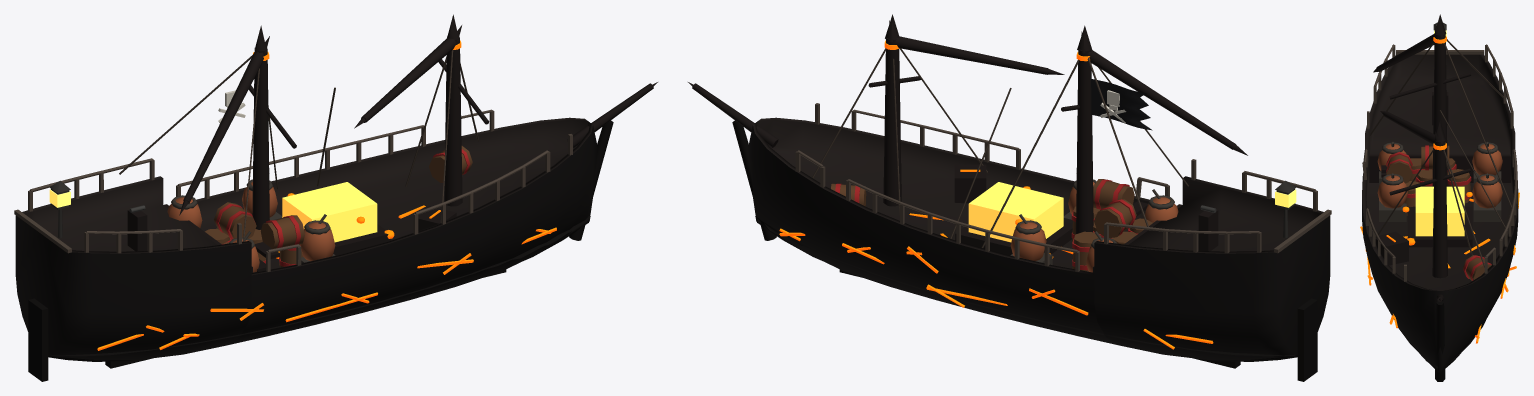
File: fire-ship-4-firepots.glb
The picture shows the model from 3 angles, left to right: view 1: azimuth 30°, elevation 25°; view 2: azimuth 150°, elevation 25°; view 3: azimuth 270°, elevation 25°; orthographic projection. The views are drawn at different scales.
Parts seen in each view (by area): view 1: Mesh_Hull, Mesh_DeckAndBulwarks, Mesh_FireCore, Mesh_MainMastStump, Mesh_ForeMastStump, Mesh_MainMastFallen, Mesh_Rudder, Mesh_HullLower, Mesh_ForeMastFallen, Mesh_FirePot_3, Mesh_Barrel6, Mesh_Barrel5 (+5 smaller); view 2: Mesh_Hull, Mesh_DeckAndBulwarks, Mesh_FireCore, Mesh_MainMastStump, Mesh_ForeMastStump, Mesh_MainMastFallen, Mesh_Flag_Tattered, Mesh_Rudder, Mesh_ForeMastFallen, Mesh_HullLower, Mesh_HatchRim, Mesh_Crate (+7 smaller); view 3: Mesh_DeckAndBulwarks, Mesh_Hull, Mesh_ForeMastStump, Mesh_FireCore, Mesh_MainMastStump, Mesh_HatchRim, Mesh_QuarterBulkhead, Mesh_Crate, Mesh_FirePot_2, Mesh_FirePot_0, Mesh_FirePot_3, Mesh_Stem (+26 smaller).
Part boxes in pixels (box(x1,y1,x2,y2)): Mesh_Hull: box(15, 125, 597, 360); Mesh_DeckAndBulwarks: box(22, 117, 592, 275); Mesh_FireCore: box(282, 182, 377, 242); Mesh_MainMastStump: box(252, 47, 269, 229); Mesh_ForeMastStump: box(444, 36, 462, 206); Mesh_MainMastFallen: box(183, 51, 265, 203); Mesh_Rudder: box(28, 298, 48, 381); Mesh_HullLower: box(48, 216, 590, 361); Mesh_ForeMastFallen: box(361, 37, 458, 122); Mesh_FirePot_3: box(300, 222, 335, 261); Mesh_Barrel6: box(260, 215, 304, 248); Mesh_Barrel5: box(214, 202, 256, 238); Mesh_Hull: box(748, 125, 1330, 360); Mesh_DeckAndBulwarks: box(753, 117, 1323, 275); Mesh_FireCore: box(968, 182, 1063, 242); Mesh_MainMastStump: box(1076, 49, 1093, 233); Mesh_ForeMastStump: box(883, 37, 901, 206); Mesh_MainMastFallen: box(1087, 50, 1235, 149); Mesh_Flag_Tattered: box(1091, 78, 1152, 130); Mesh_Rudder: box(1297, 298, 1317, 381); Mesh_ForeMastFallen: box(894, 36, 1048, 74); Mesh_HullLower: box(755, 216, 1297, 361); Mesh_HatchRim: box(955, 221, 1072, 255); Mesh_Crate: box(954, 164, 986, 203); Mesh_DeckAndBulwarks: box(1362, 54, 1518, 290); Mesh_Hull: box(1362, 200, 1518, 373); Mesh_ForeMastStump: box(1432, 139, 1447, 278); Mesh_FireCore: box(1415, 186, 1464, 236); Mesh_MainMastStump: box(1432, 33, 1447, 186); Mesh_HatchRim: box(1407, 206, 1472, 247); Mesh_QuarterBulkhead: box(1369, 154, 1510, 182); Mesh_Crate: box(1375, 231, 1408, 265); Mesh_FirePot_2: box(1472, 175, 1502, 208); Mesh_FirePot_0: box(1472, 144, 1502, 175); Mesh_FirePot_3: box(1377, 175, 1407, 208); Mesh_Stem: box(1435, 301, 1445, 381).
Size of the model in its own units: 18.16 by 8.46 by 4.9.
